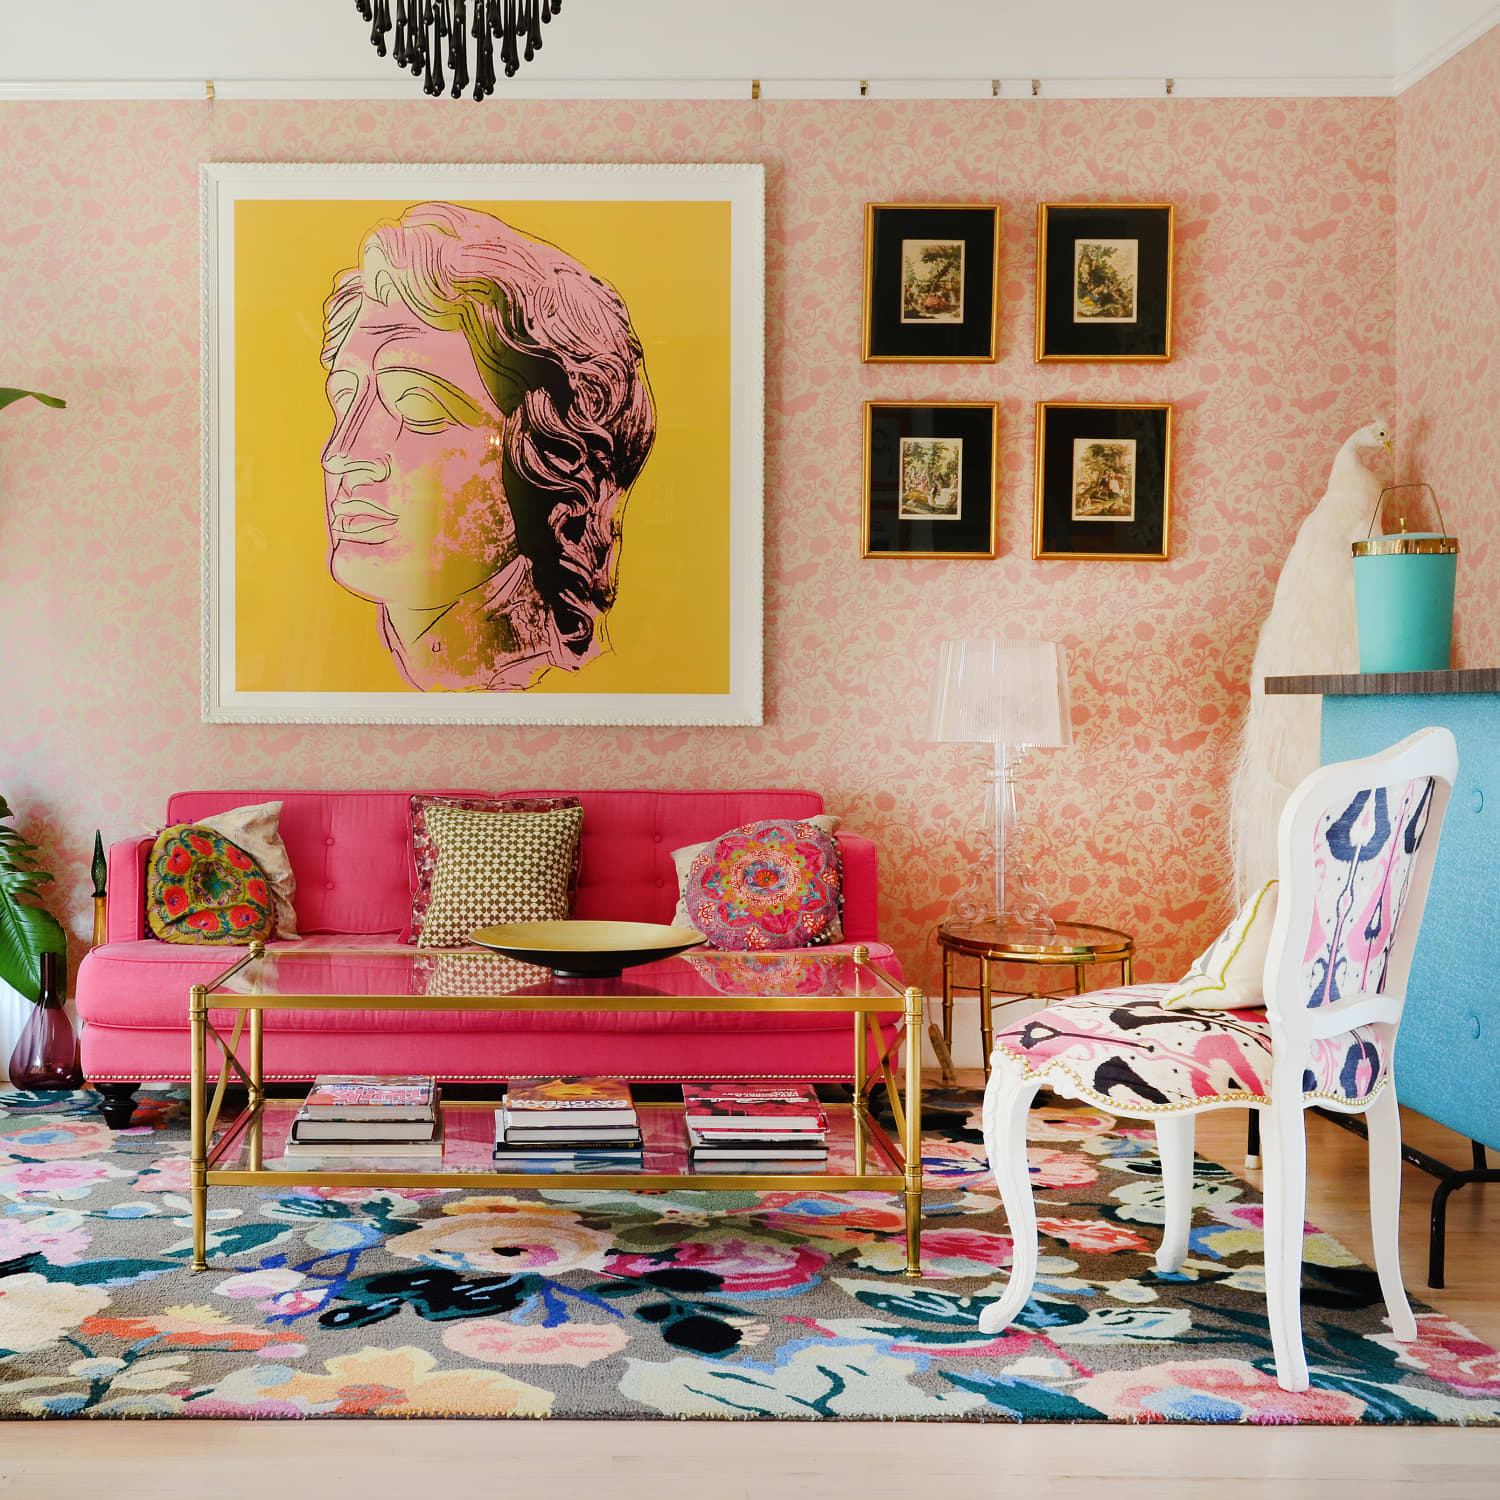biru: (1350, 537, 1464, 680)
pink: (103, 788, 891, 1073)
putih: (930, 635, 1076, 751)
